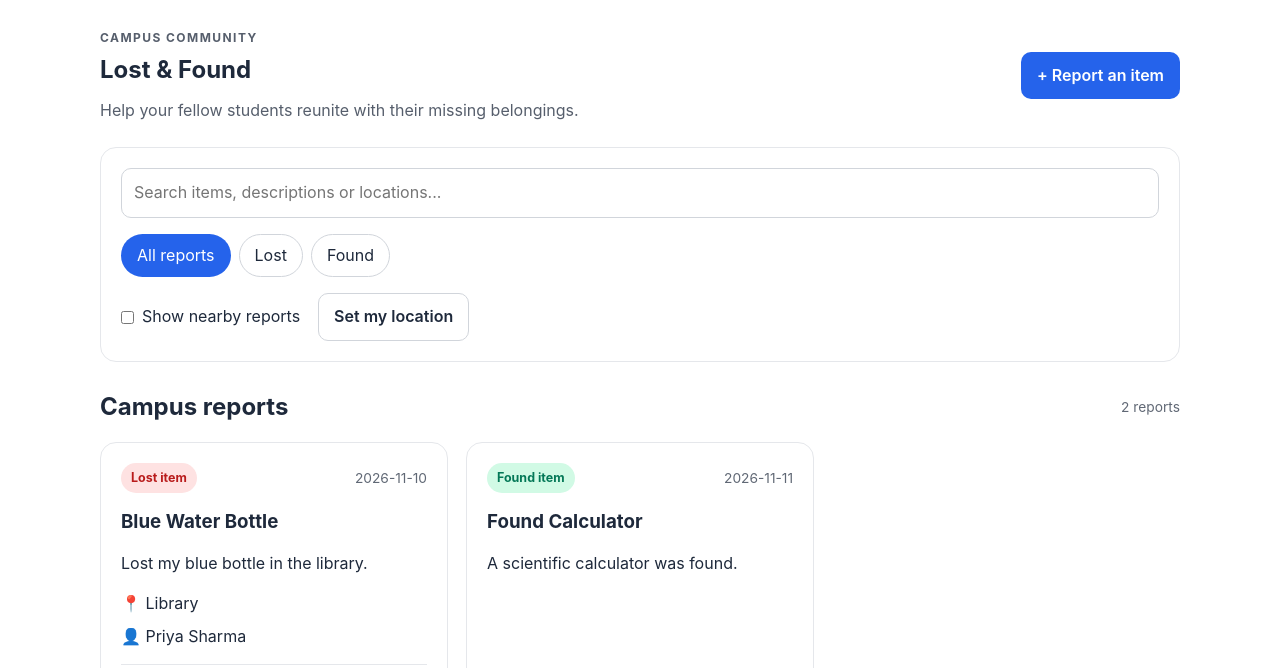
Test: LostFound Page › filters reports using the search field
This screenshot has width=1280, height=668.
Type "calculator" into the search field named "Search Lost and Found reports" at (640, 193), box [121, 168, 1159, 218]
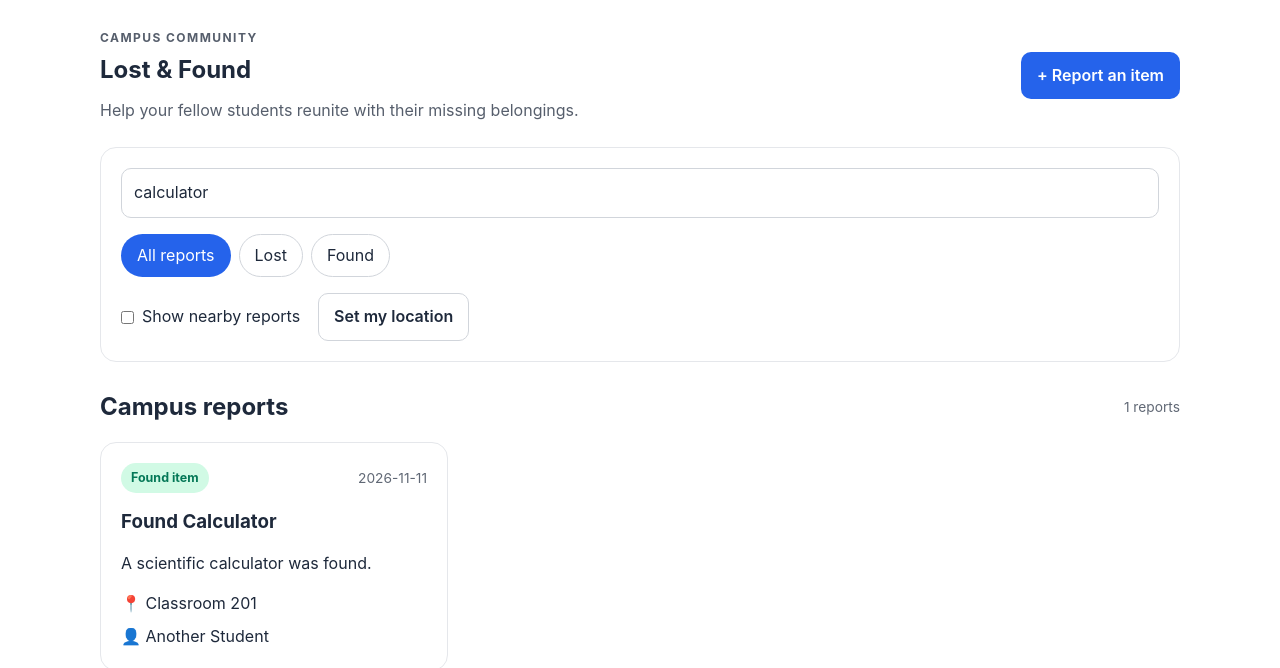
Expected: the heading "Found Calculator" is shown, [121, 510, 276, 533]
Result: the heading "Blue Water Bottle" is gone
Result: the text "1 reports" is shown at [1124, 396, 1180, 418]
